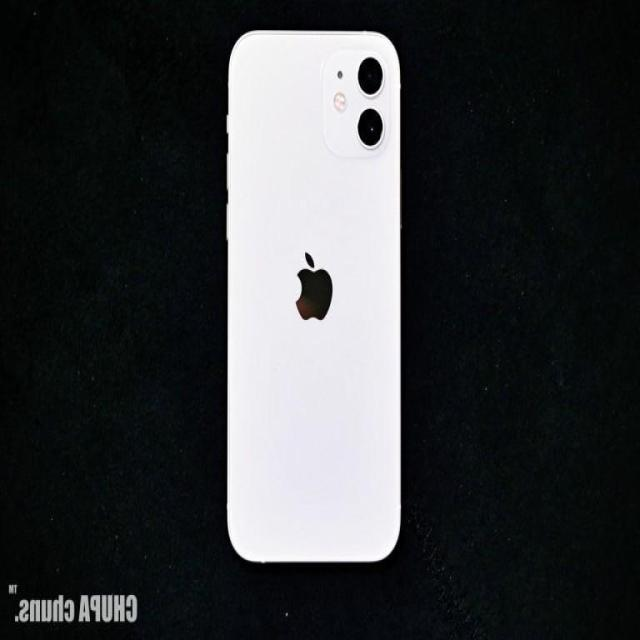mobile: (227, 29, 400, 564)
